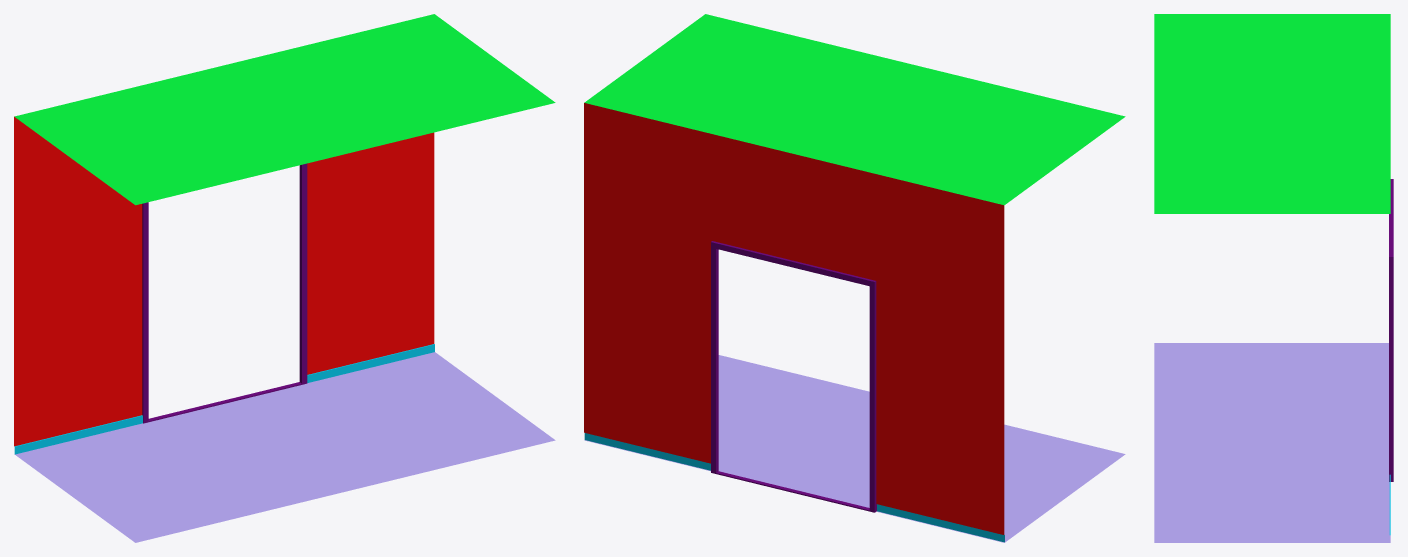
3 views of the same model, side by side, from view 1: azimuth 30°, elevation 25°; view 2: azimuth 150°, elevation 25°; view 3: azimuth 270°, elevation 25° (orthographic). The views are drawn at different scales.
Parts seen in each view (by area): view 1: SM_Door_Frame_D; view 2: SM_Door_Frame_D; view 3: SM_Door_Frame_D.
Boxes of the visible parts, x1,y1,x2,y2 form: SM_Door_Frame_D: (14, 14, 555, 542); SM_Door_Frame_D: (584, 14, 1125, 542); SM_Door_Frame_D: (1154, 14, 1393, 542).
Size of the model in its own units: 400 by 307 by 202.
